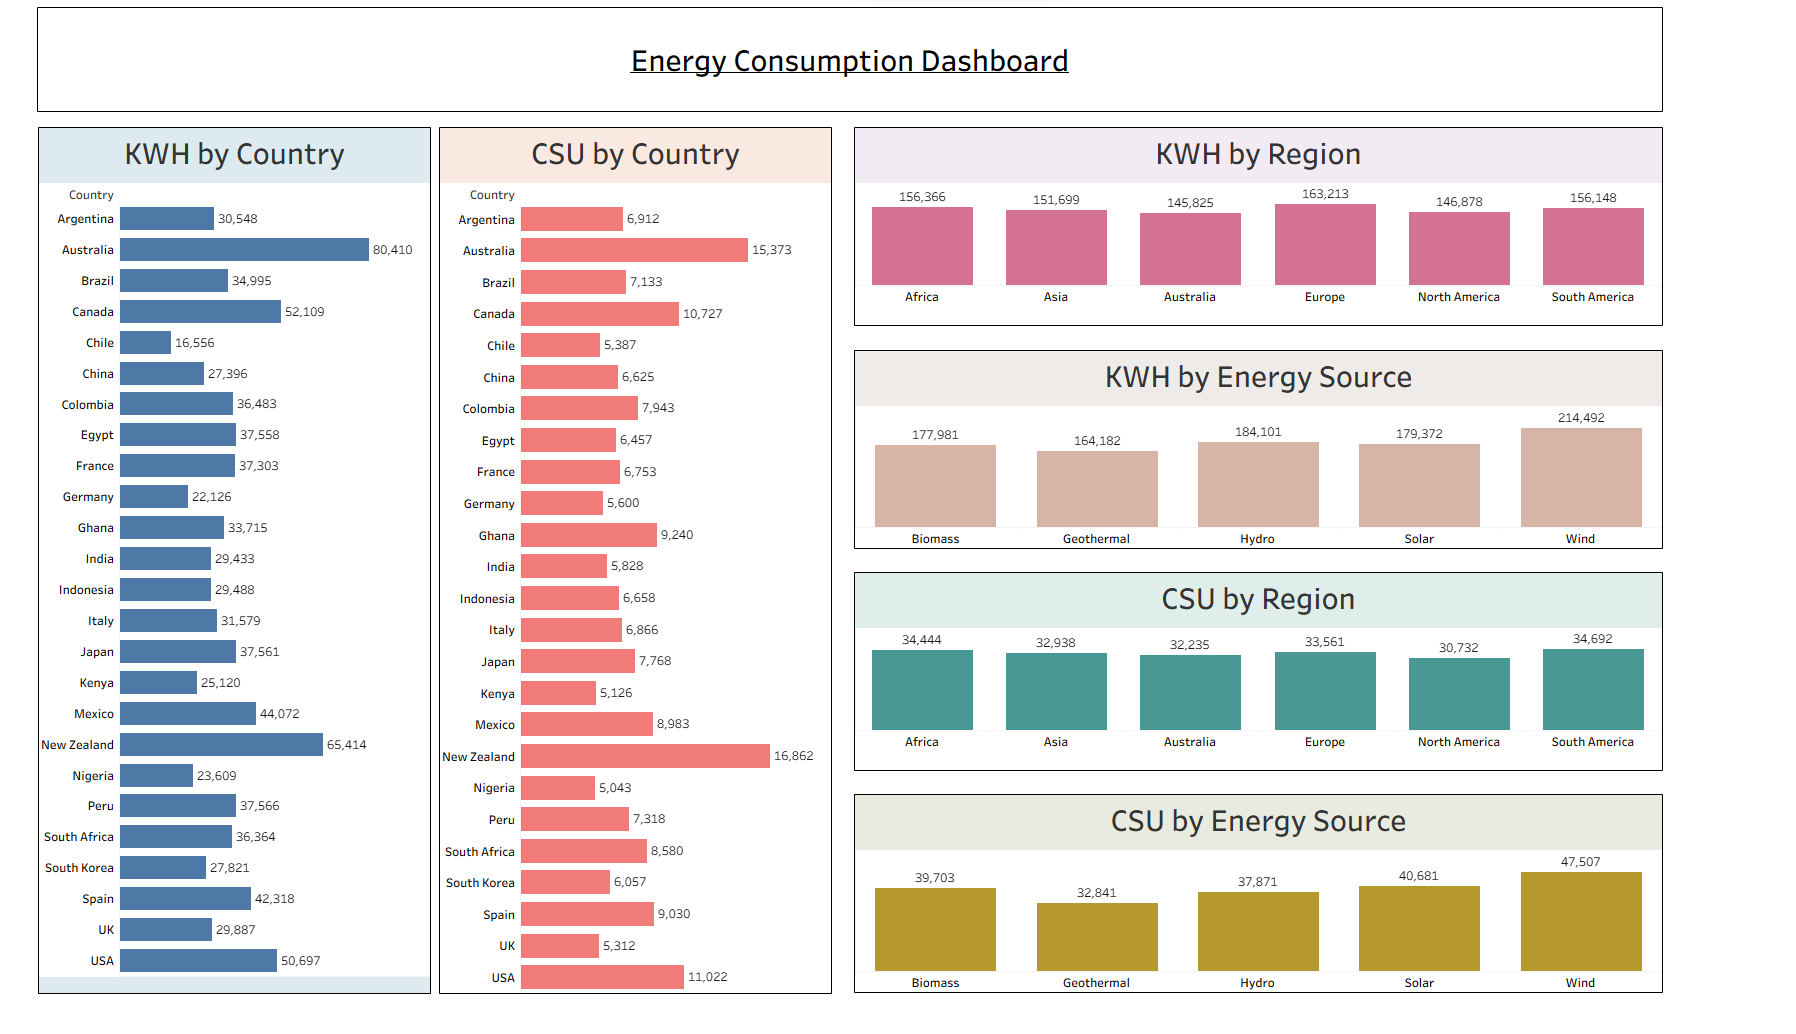

This screenshot's page, from the dashboard's own definition file:
{"tool":"tableau","page":{"name":"Tableau Dashboard","canvas":[1000,1000],"units":"permille","ordinal":0},"visuals":[{"type":"text","box":[19.3,8.9,846.7,100.5]},{"type":"worksheet","title":"KWH by Country","mark":"Automatic","rows":["COUNTRY"],"cols":["MONTHLY_USAGE_KWH"],"box":[19.9,122.8,204.8,825.9]},{"type":"worksheet","title":"CSU by Country","mark":"Automatic","rows":["COUNTRY"],"cols":["COST_SAVINGS_USD"],"box":[228.8,122.8,204.8,825.9]},{"type":"worksheet","title":"KWH by Region","mark":"Automatic","rows":["MONTHLY_USAGE_KWH"],"cols":["REGION"],"box":[444.7,122.8,421.3,189.7]},{"type":"worksheet","title":"KWH by Energy Source","mark":"Automatic","rows":["MONTHLY_USAGE_KWH"],"cols":["ENERGY_SOURCE"],"box":[444.7,334.8,421.3,189.7]},{"type":"worksheet","title":"CSU by Region","mark":"Automatic","rows":["COST_SAVINGS_USD"],"cols":["REGION"],"box":[444.7,546.9,421.3,189.7]},{"type":"worksheet","title":"CSU by Energy Source","mark":"Automatic","rows":["COST_SAVINGS_USD"],"cols":["ENERGY_SOURCE"],"box":[444.7,757.8,421.3,189.7]}]}

Visuals, with their boxes on the dashboard's canvas, which has no fixed pixel size, in thousandths of its width and height (x1, y1, x2, y2). These are canvas units, not pixel positions in the 1796x1034 screenshot, which may show the page scaled, cropped or inside an application window:
text: pyautogui.locateOnScreen(19, 9, 866, 109)
"KWH by Country" worksheet: pyautogui.locateOnScreen(20, 123, 225, 949)
"CSU by Country" worksheet: pyautogui.locateOnScreen(229, 123, 434, 949)
"KWH by Region" worksheet: pyautogui.locateOnScreen(445, 123, 866, 312)
"KWH by Energy Source" worksheet: pyautogui.locateOnScreen(445, 335, 866, 524)
"CSU by Region" worksheet: pyautogui.locateOnScreen(445, 547, 866, 737)
"CSU by Energy Source" worksheet: pyautogui.locateOnScreen(445, 758, 866, 948)
